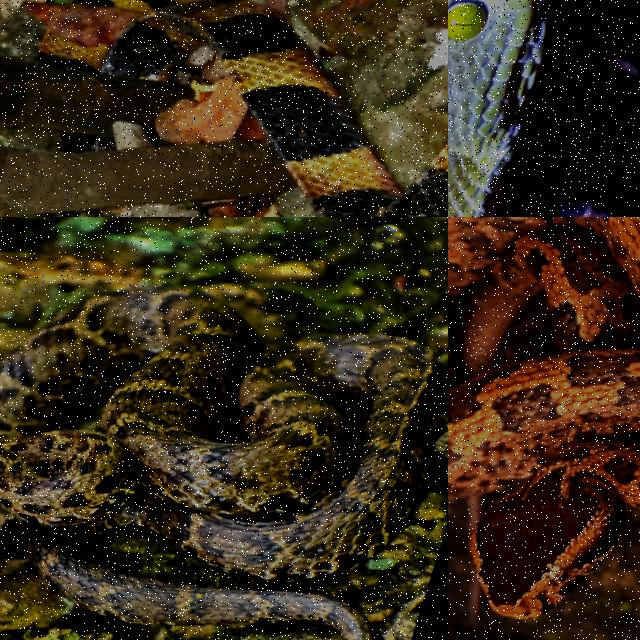Bungarus fasciatus: (81, 0, 447, 216)
Ovophis monticola: (0, 289, 447, 639), (448, 217, 639, 627)
Trimeresurus macrops: (448, 0, 564, 216)
